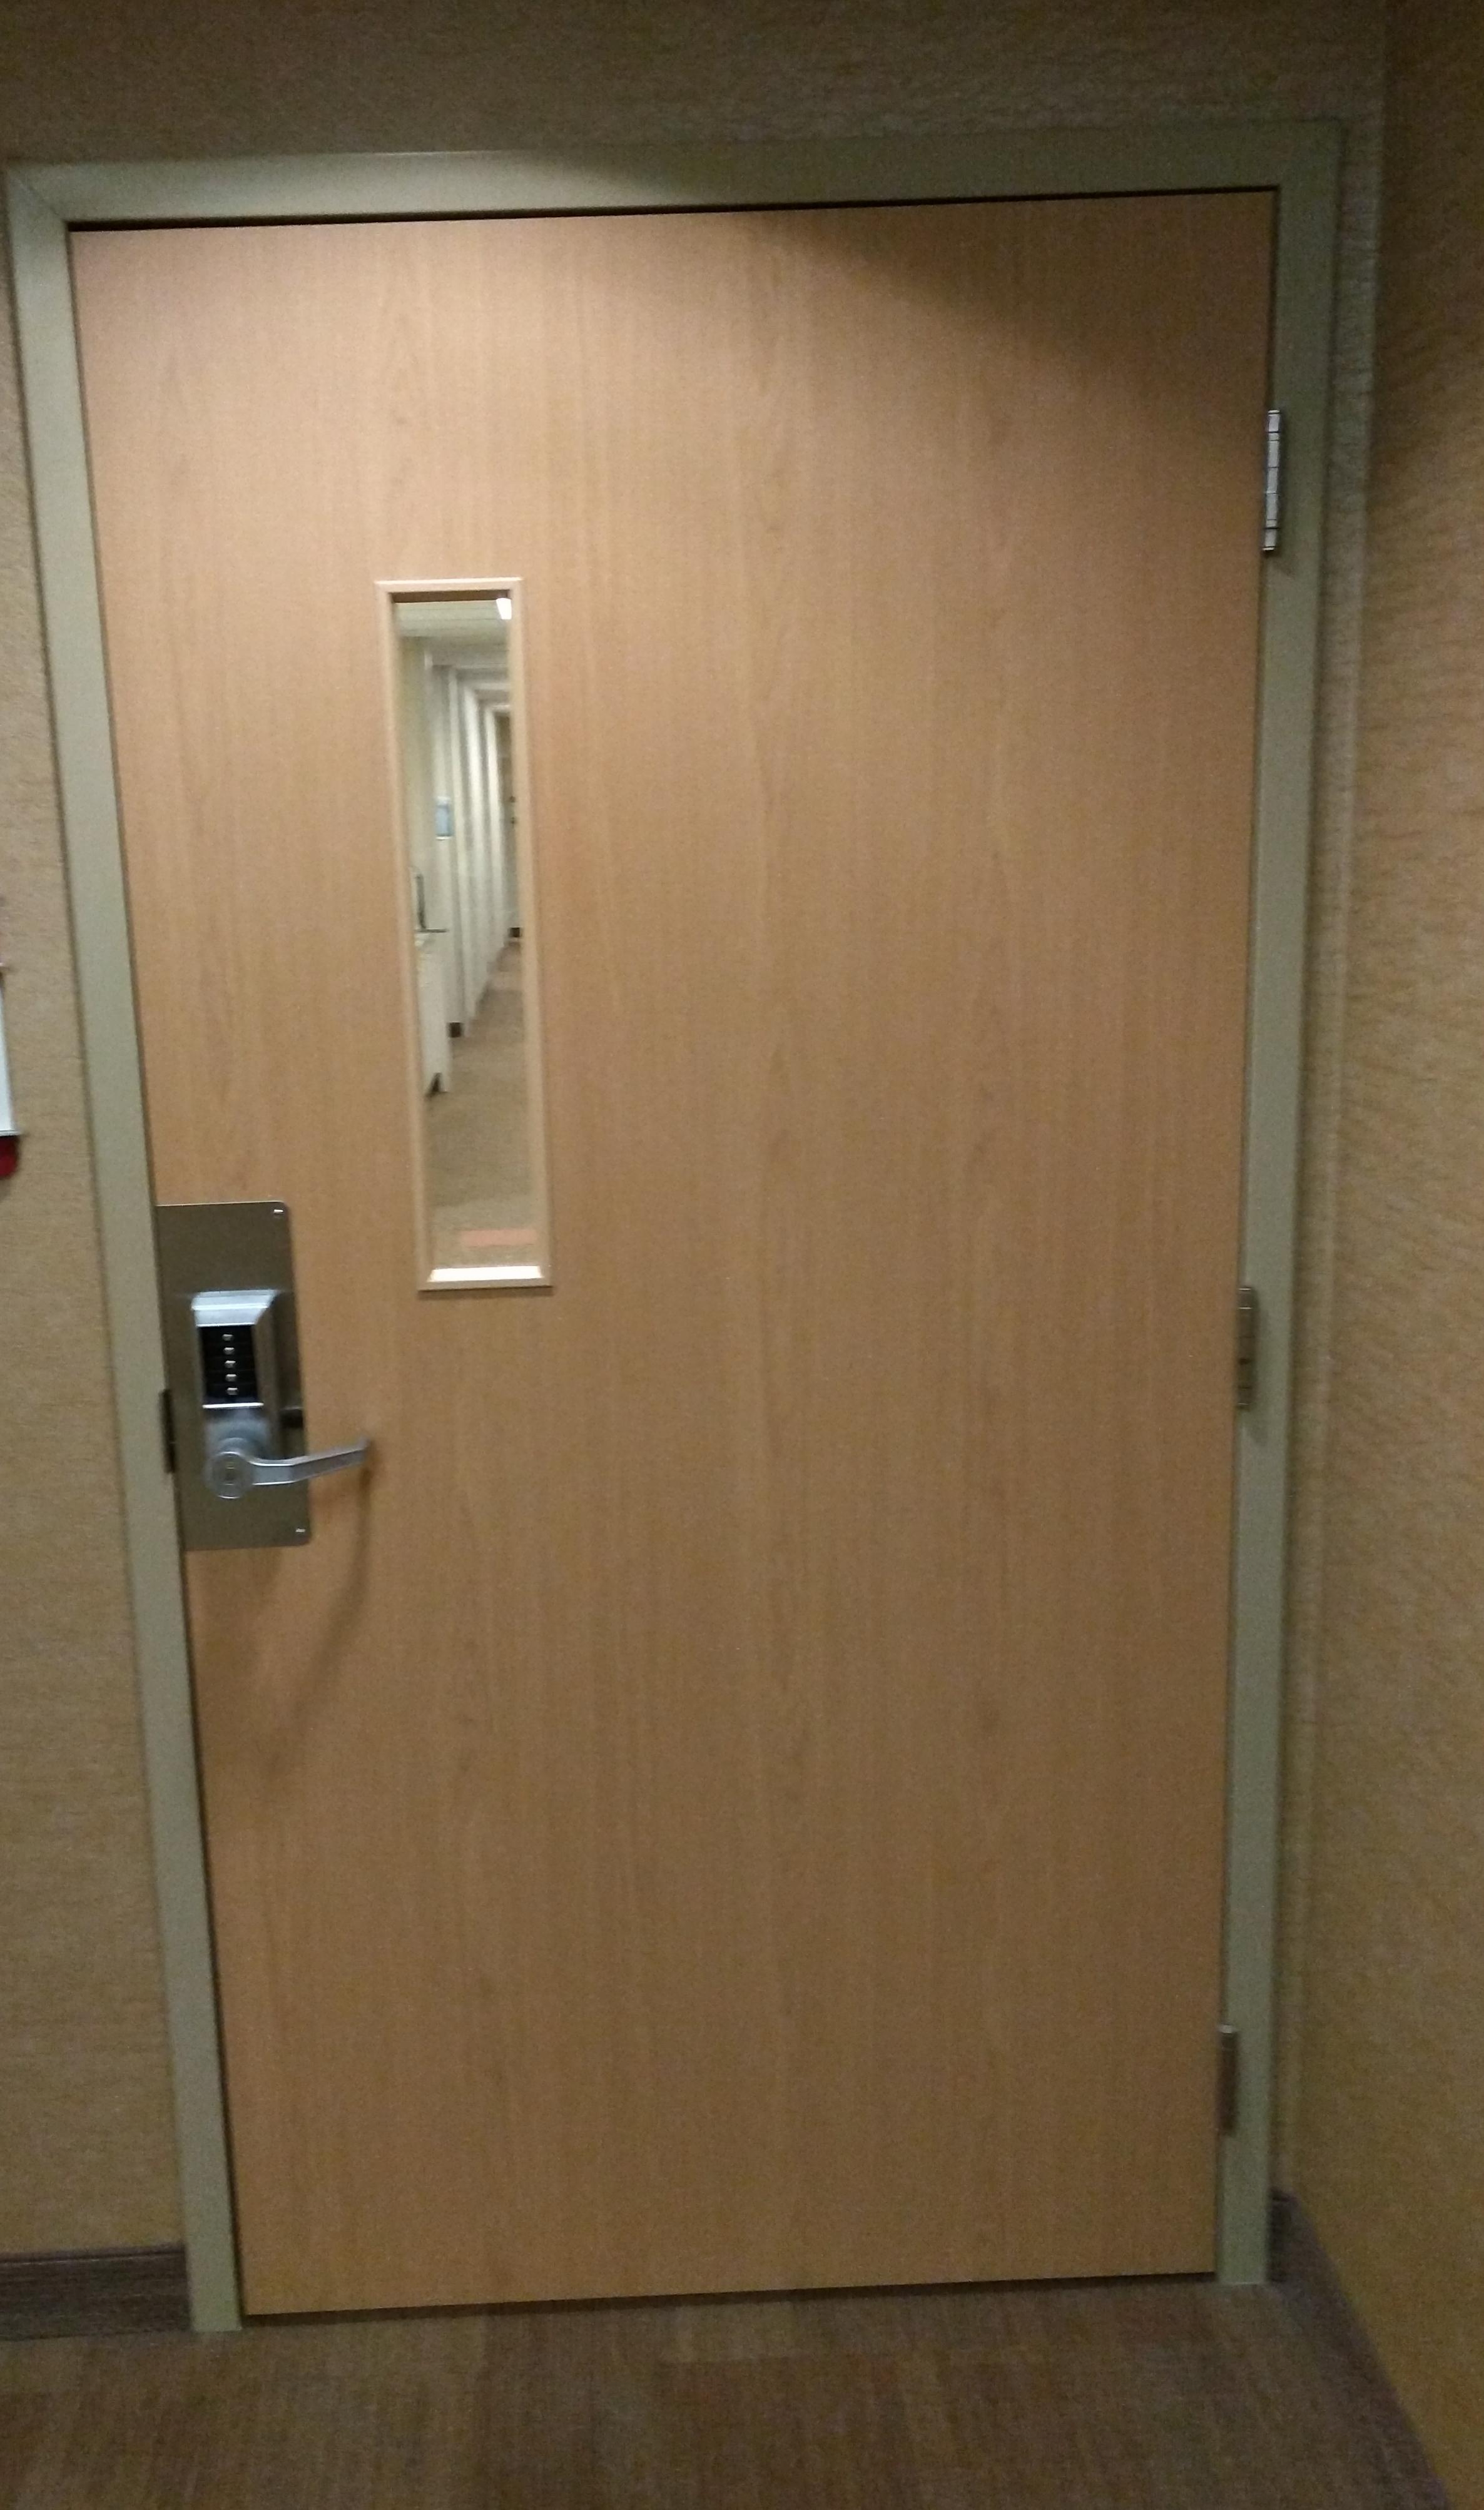door: (42, 208, 1240, 2300)
